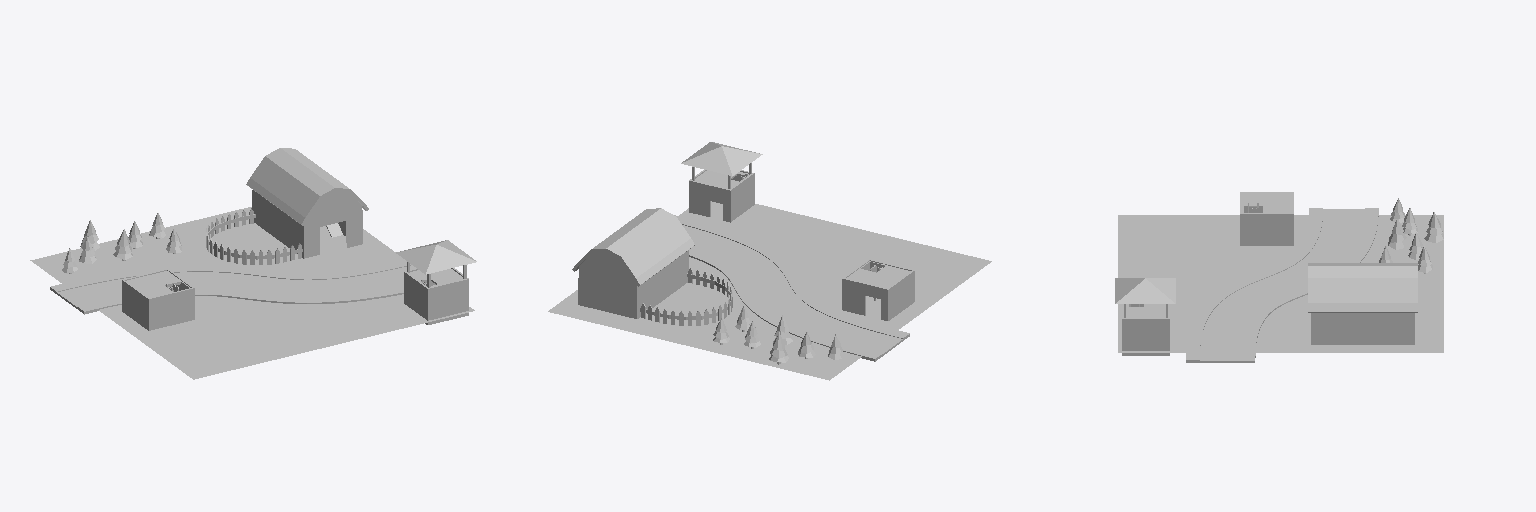
File: full starting map extra cool version.obj
3 renders of one model, left to right at view 1: azimuth 30°, elevation 25°; view 2: azimuth 150°, elevation 25°; view 3: azimuth 270°, elevation 25°, orthographic.
Visible parts, largest first — view 1: Plane, Road, Barn, Cone, Building1, Barn_Fence; view 2: Plane, Road, Barn, Cone, Building1, Barn_Fence; view 3: Plane, Road, Barn, Cone, Building1.
Part boxes in pixels (x1,y1,x2,y2): Plane: (30, 207, 474, 379); Road: (50, 260, 415, 314); Barn: (246, 148, 368, 258); Cone: (396, 240, 476, 324); Building1: (122, 269, 194, 330); Barn_Fence: (206, 208, 302, 264); Plane: (548, 201, 991, 380); Road: (674, 215, 909, 361); Barn: (572, 208, 694, 318); Cone: (681, 142, 762, 222); Building1: (842, 259, 914, 320); Barn_Fence: (640, 268, 732, 325); Plane: (1118, 215, 1443, 352); Road: (1186, 208, 1378, 362); Barn: (1308, 263, 1417, 344); Cone: (1115, 278, 1175, 355); Building1: (1240, 192, 1293, 245).
Bounding box in the file's own units: 187 × 40.07 × 170.